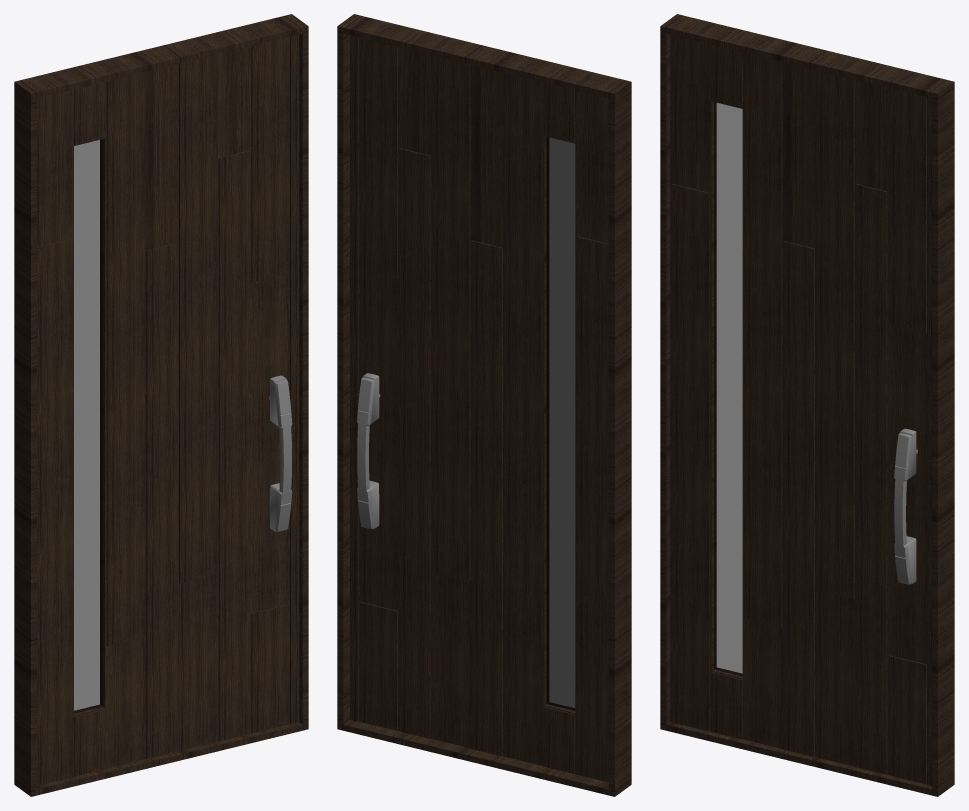
File: SM_Door_13.fbx
3 renders of one model, left to right at view 1: azimuth 30°, elevation 25°; view 2: azimuth 150°, elevation 25°; view 3: azimuth 330°, elevation 25°, orthographic.
Parts seen in each view (by area): view 1: GDLM270_GDLM1666_mLayer5_1384.025; view 2: GDLM270_GDLM1666_mLayer5_1384.025; view 3: GDLM270_GDLM1666_mLayer5_1384.025.
Boxes of the visible parts, x1=… form: GDLM270_GDLM1666_mLayer5_1384.025: x1=14, y1=14, x2=308, y2=796; GDLM270_GDLM1666_mLayer5_1384.025: x1=337, y1=14, x2=631, y2=796; GDLM270_GDLM1666_mLayer5_1384.025: x1=660, y1=14, x2=954, y2=796.
Size of the model in its own units: 96.2 by 233 by 19.37.
Materials: 3 (1 with a texture image).
